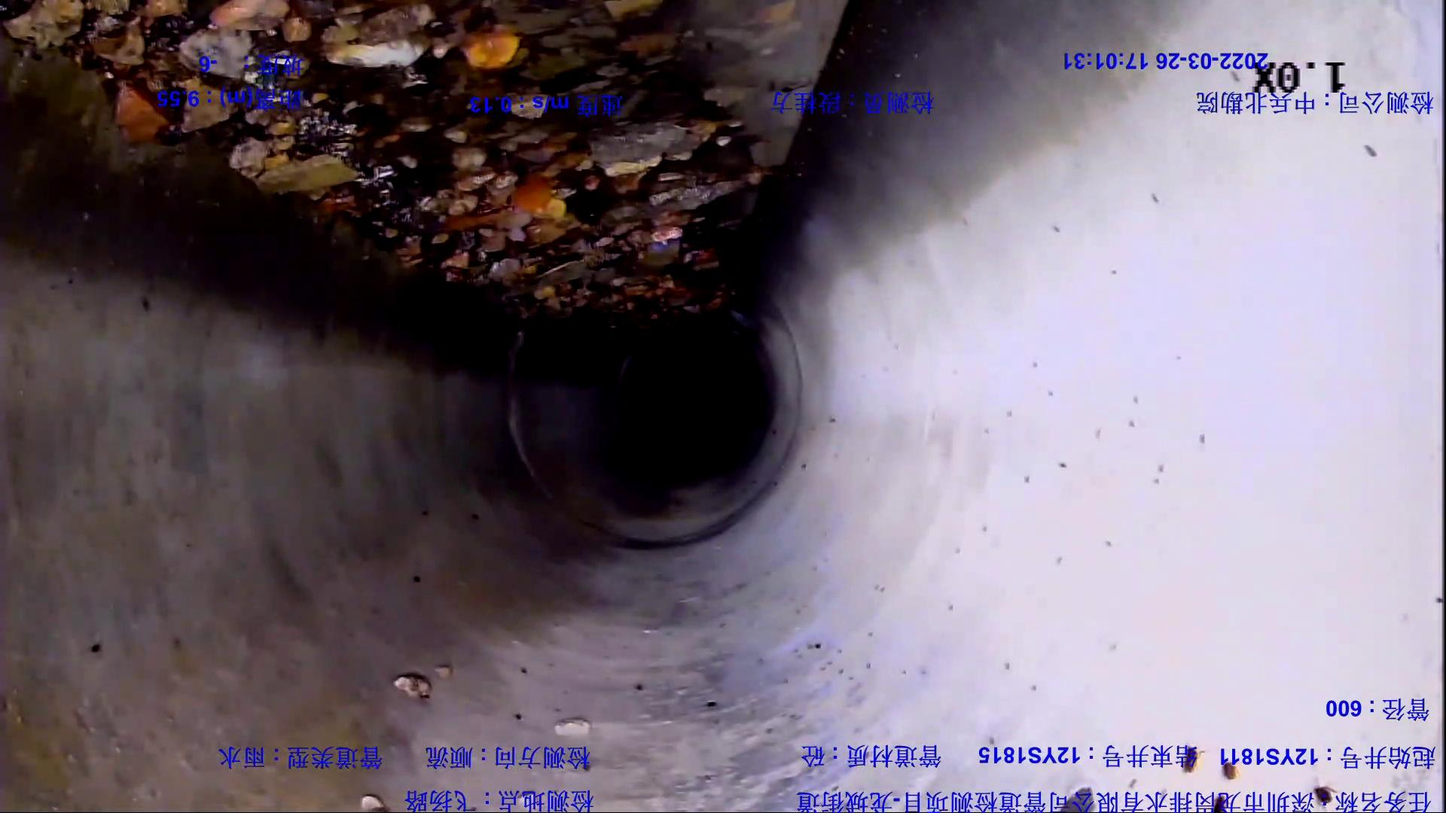CJ: (1, 1, 846, 318)
